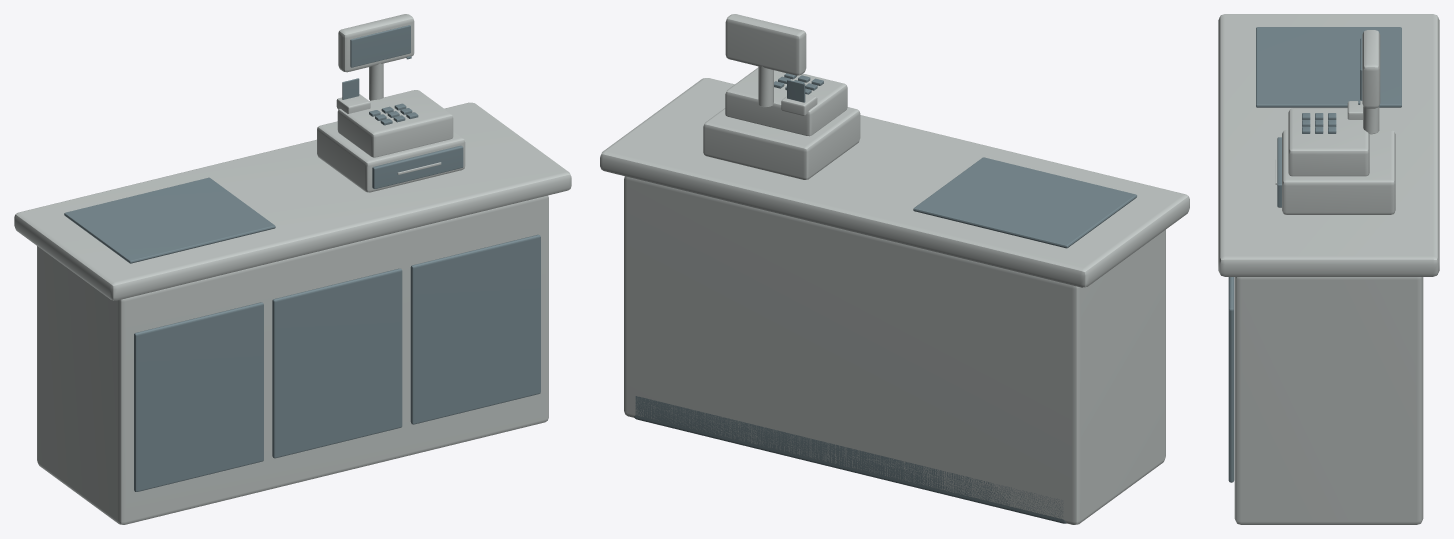
The model's file is shop-counter.glb.
3 renders of one model, left to right at view 1: azimuth 30°, elevation 25°; view 2: azimuth 150°, elevation 25°; view 3: azimuth 270°, elevation 25°, orthographic. The views are drawn at different scales.
Visible parts, largest first — view 1: counter_body, countertop, front_panel.001, front_panel.002, front_panel, bagging_inset, keypad_console, cash_drawer, drawer_front, register_display_screen, register_display_housing; view 2: counter_body, countertop, bagging_inset, plinth, cash_drawer, keypad_console, register_display_housing; view 3: counter_body, countertop, bagging_inset, cash_drawer, keypad_console, register_display_housing, front_panel.002, display_stem, drawer_front, receipt_printer.
Boxes of the visible parts, x1=… form: counter_body: x1=37, y1=195, x2=548, y2=524; countertop: x1=14, y1=102, x2=571, y2=300; front_panel.001: x1=272, y1=268, x2=402, y2=458; front_panel.002: x1=410, y1=234, x2=540, y2=424; front_panel: x1=134, y1=302, x2=263, y2=491; bagging_inset: x1=64, y1=177, x2=275, y2=263; keypad_console: x1=337, y1=90, x2=453, y2=157; cash_drawer: x1=317, y1=121, x2=465, y2=192; drawer_front: x1=372, y1=145, x2=463, y2=188; register_display_screen: x1=350, y1=25, x2=410, y2=67; register_display_housing: x1=338, y1=14, x2=414, y2=72; counter_body: x1=624, y1=176, x2=1165, y2=524; countertop: x1=600, y1=78, x2=1189, y2=287; bagging_inset: x1=913, y1=157, x2=1136, y2=248; plinth: x1=634, y1=396, x2=1066, y2=523; cash_drawer: x1=703, y1=107, x2=860, y2=179; keypad_console: x1=725, y1=67, x2=847, y2=136; register_display_housing: x1=725, y1=14, x2=806, y2=75; counter_body: x1=1234, y1=277, x2=1423, y2=524; countertop: x1=1218, y1=14, x2=1439, y2=276; bagging_inset: x1=1256, y1=27, x2=1401, y2=107; cash_drawer: x1=1282, y1=130, x2=1395, y2=214; keypad_console: x1=1288, y1=108, x2=1369, y2=176; register_display_housing: x1=1362, y1=30, x2=1380, y2=108; front_panel.002: x1=1228, y1=277, x2=1234, y2=482; display_stem: x1=1363, y1=106, x2=1379, y2=134; drawer_front: x1=1277, y1=137, x2=1281, y2=207; receipt_printer: x1=1347, y1=101, x2=1362, y2=119.
Size of the model in its own units: 1.8 by 1.43 by 0.68.
